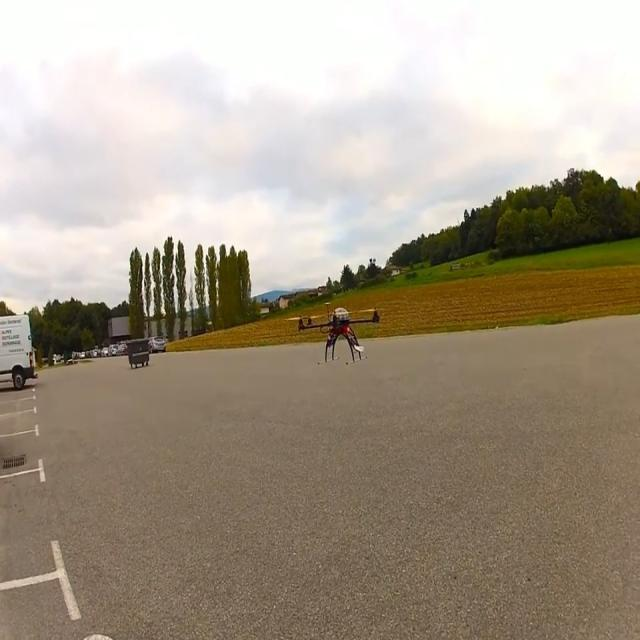drone: (297, 304, 380, 362)
